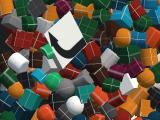Right: (44, 10, 88, 68)
